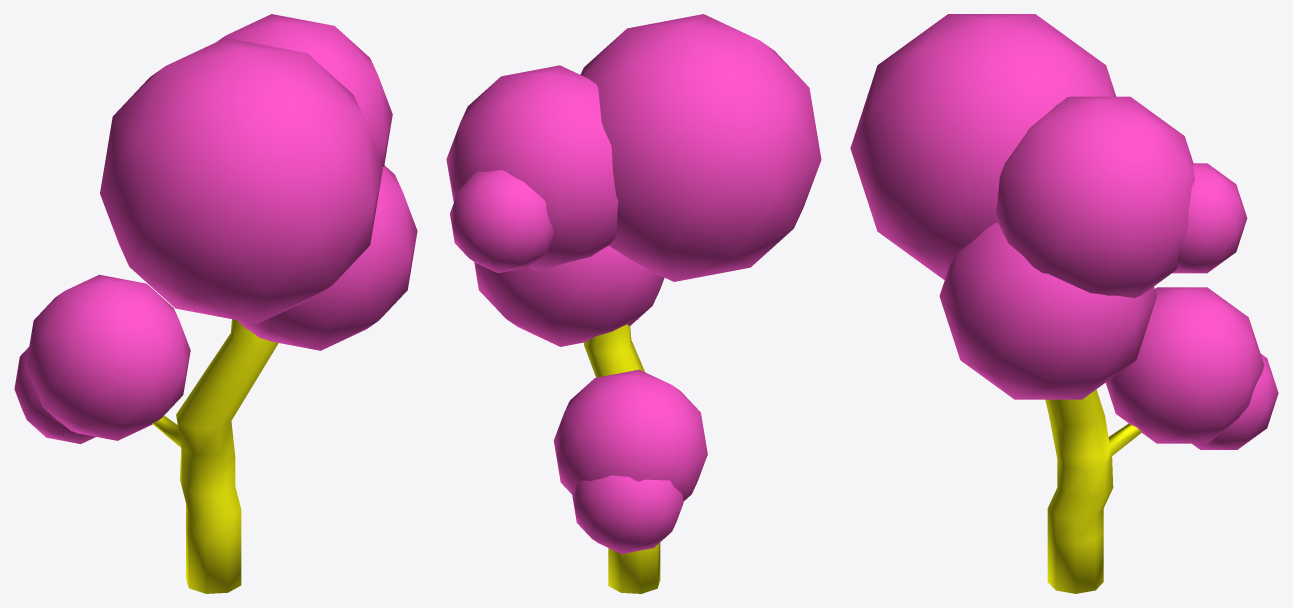
Rendered from agac_1.fbx.
3 views of the same model, side by side, from view 1: azimuth 30°, elevation 25°; view 2: azimuth 150°, elevation 25°; view 3: azimuth 270°, elevation 25° (orthographic). The views are drawn at different scales.
Parts seen in each view (by area): view 1: Cylinder; view 2: Cylinder; view 3: Cylinder.
Part boxes in pixels (x1,y1,x2,y2): Cylinder: (14,14,417,593); Cylinder: (446,14,821,593); Cylinder: (850,14,1278,593).
Size of the model in its own units: 1128 by 1992 by 1394.
